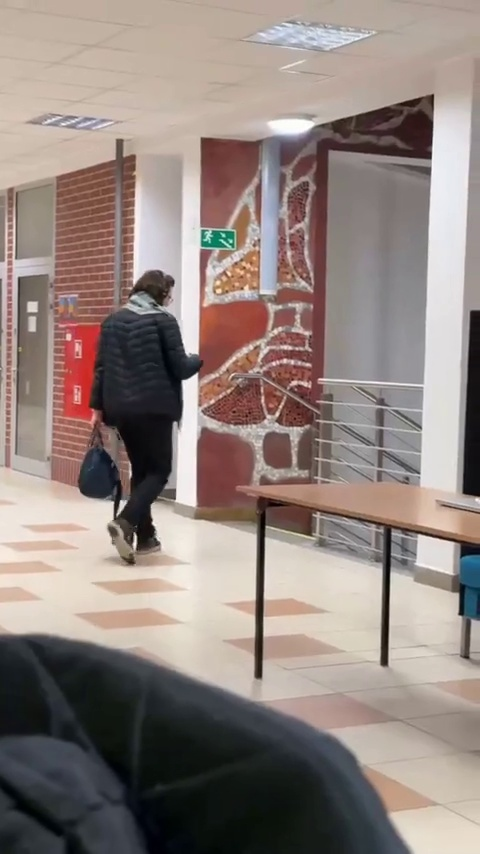no vest: (87, 268, 204, 557)
